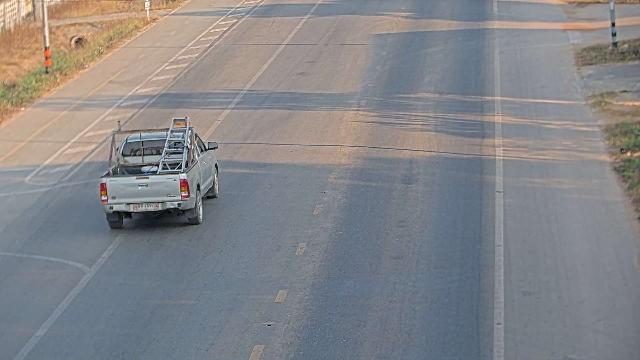pickup-truck: (98, 116, 220, 229)
